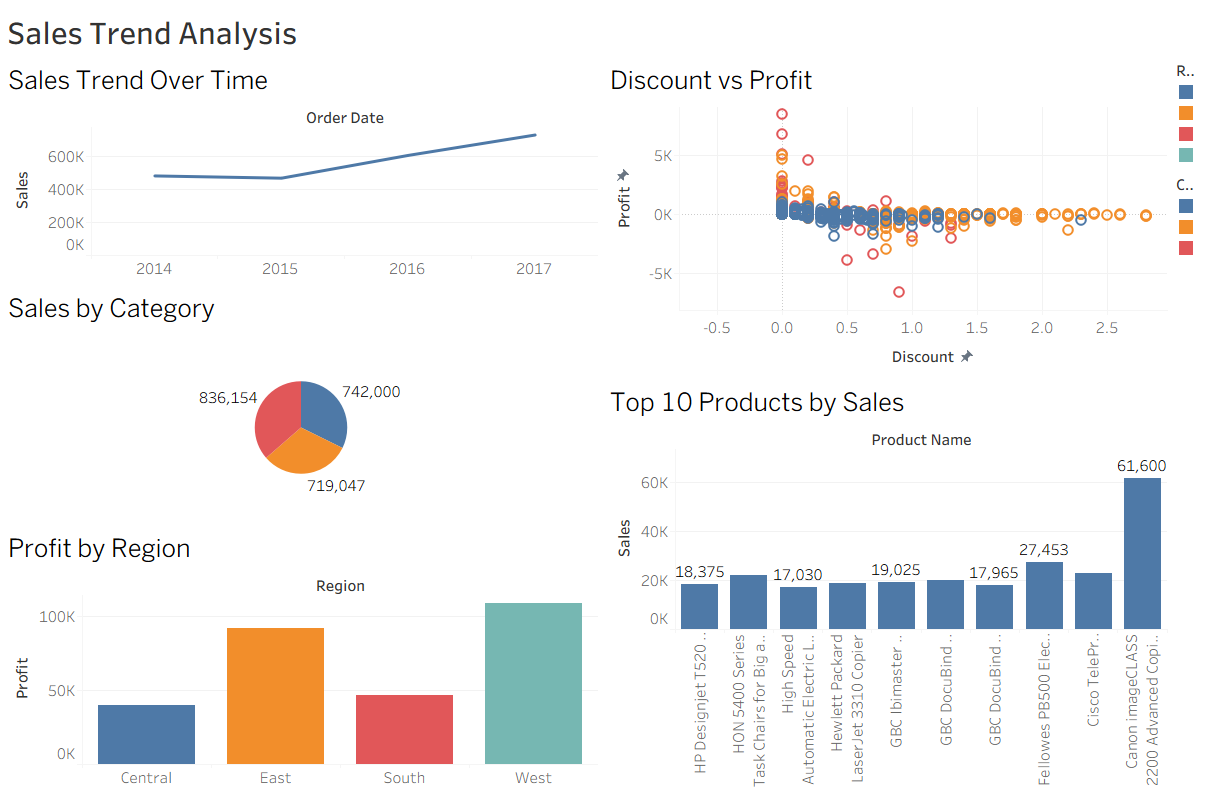

The dashboard page shown, as its layout file describes it:
{"tool":"tableau","page":{"name":"Dashboard 1","canvas":[1000,1000],"units":"permille","ordinal":0},"visuals":[{"type":"title","box":[4.8,10,990.3,101.1]},{"type":"worksheet","title":"Sheet 1","mark":"Line","rows":["Sales"],"cols":["Order Date"],"box":[4.8,111.1,847.3,325.8]},{"type":"legend","title":"Sheet 1","param":"[federated.1e3zqev0xuv9sf0zq0kox0p1u5e5].[tmn:Order Date:qk]","box":[852.1,111.1,143,91.1]},{"type":"legend","title":"Sheet 2","param":"[federated.1e3zqev0xuv9sf0zq0kox0p1u5e5].[sum:Sales:qk]","box":[852.1,202.3,143,91.1]},{"type":"legend","title":"Sheet 3","param":"[federated.1e3zqev0xuv9sf0zq0kox0p1u5e5].[none:Category:nk]","box":[852.1,293.4,143,116.1]},{"type":"worksheet","title":"Sheet 3","mark":"Pie","box":[4.8,436.9,362.7,276.5]},{"type":"worksheet","title":"Sheet 2","mark":"Automatic","rows":["Region"],"cols":["Sales"],"box":[367.5,436.9,484.6,553.1]},{"type":"text","box":[4.8,713.5,362.7,276.5]}]}

Visuals, with their boxes on the dashboard's canvas, which has no fixed pixel size, in thousandths of its width and height (x1, y1, x2, y2). These are canvas units, not pixel positions in the 1209x796 screenshot, which may show the page scaled, cropped or inside an application window:
title: [left=5, top=10, right=995, bottom=111]
"Sheet 1" worksheet (Line marks): [left=5, top=111, right=852, bottom=437]
"Sheet 1" legend: [left=852, top=111, right=995, bottom=202]
"Sheet 2" legend: [left=852, top=202, right=995, bottom=293]
"Sheet 3" legend: [left=852, top=293, right=995, bottom=410]
"Sheet 3" worksheet (Pie marks): [left=5, top=437, right=368, bottom=713]
"Sheet 2" worksheet: [left=368, top=437, right=852, bottom=990]
text: [left=5, top=714, right=368, bottom=990]
